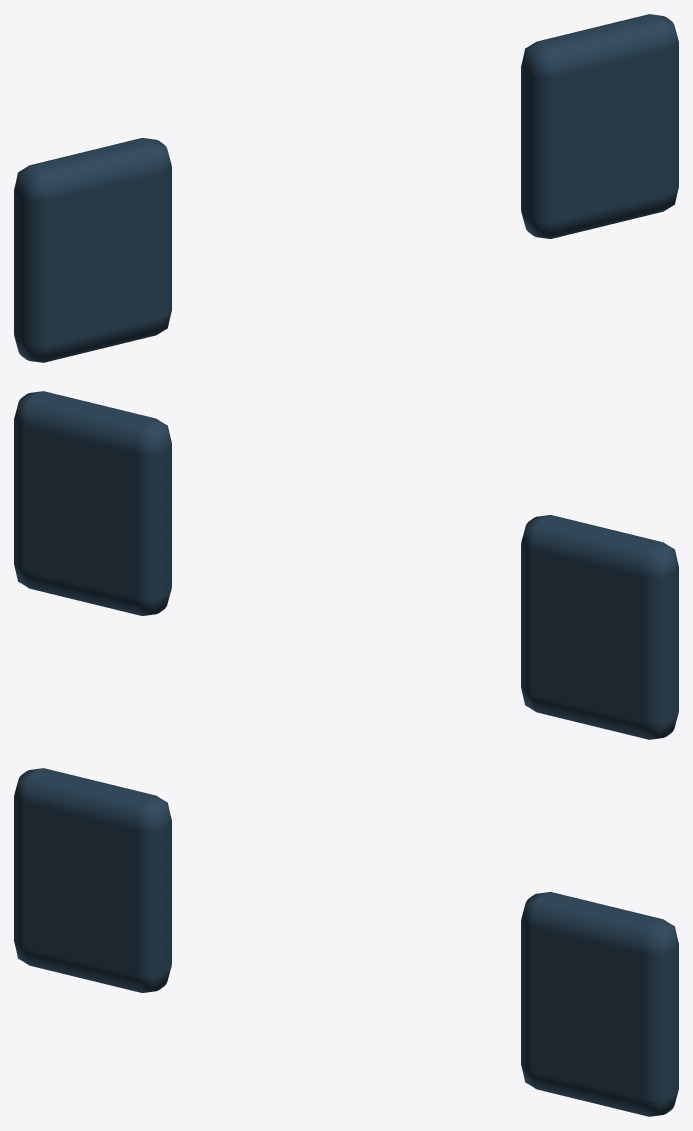
File: StreetHeroEyes.glb
3 views of the same model, one above another, from view 1: azimuth 30°, elevation 25°; view 2: azimuth 150°, elevation 25°; view 3: azimuth 330°, elevation 25° (orthographic).
Visible parts, largest first — view 1: Street Hero Eyes; view 2: Street Hero Eyes; view 3: Street Hero Eyes.
Boxes of the visible parts, x1,y1,x2,y2 form: Street Hero Eyes: (14,14,678,362); Street Hero Eyes: (14,391,678,739); Street Hero Eyes: (14,768,678,1116).
Bounding box in the file's own units: 0.465 × 0.13 × 0.03.
